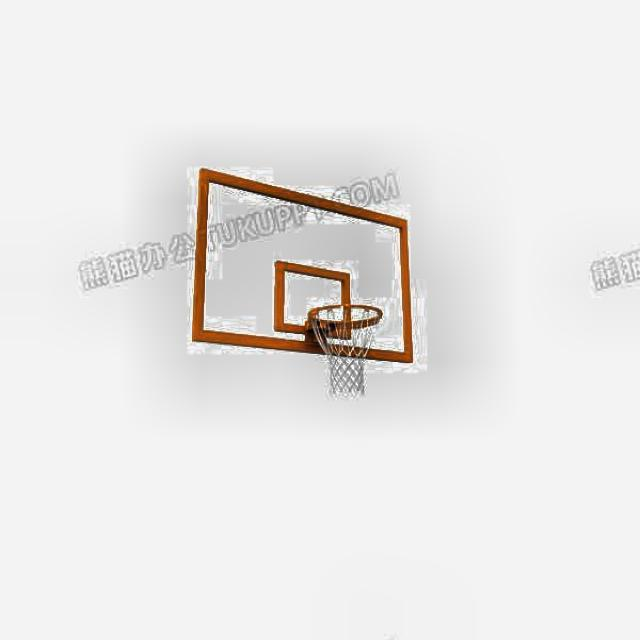rim: (314, 304, 384, 394)
